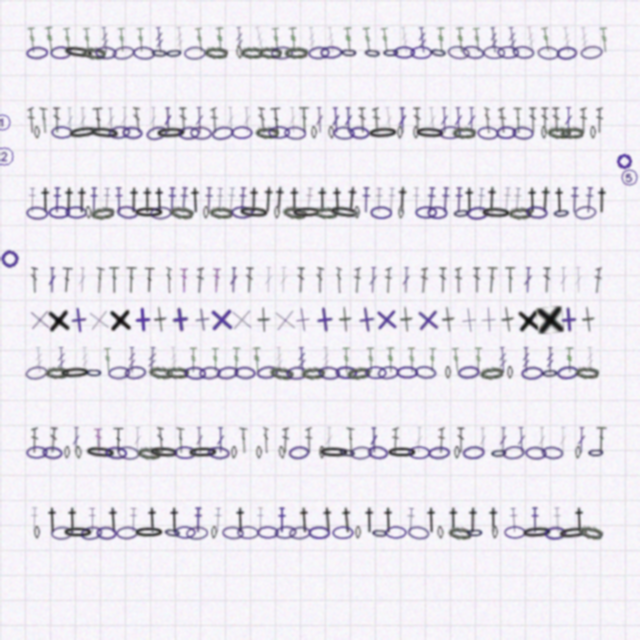chain: (62, 44, 95, 61), (67, 124, 100, 141), (328, 204, 361, 221), (88, 125, 121, 141), (557, 525, 590, 541), (84, 445, 117, 460), (238, 205, 270, 220), (148, 445, 180, 460), (521, 525, 553, 540), (155, 126, 187, 140), (367, 126, 399, 140), (414, 126, 446, 140), (480, 206, 512, 220), (59, 366, 91, 380), (578, 524, 604, 541), (145, 124, 169, 142), (133, 206, 165, 219), (291, 206, 323, 219), (187, 446, 219, 459), (318, 446, 350, 459), (386, 446, 418, 459), (62, 526, 94, 539), (133, 526, 165, 539), (461, 44, 485, 61), (90, 205, 115, 221), (269, 365, 294, 381), (346, 365, 371, 381), (479, 365, 504, 381), (169, 205, 194, 220), (282, 205, 307, 220), (148, 365, 173, 380), (112, 45, 135, 61), (211, 125, 234, 141), (25, 365, 48, 381), (216, 365, 239, 381), (117, 445, 140, 461), (80, 525, 103, 541), (407, 525, 430, 541), (447, 45, 470, 60), (512, 45, 535, 60), (580, 45, 603, 60), (108, 125, 131, 140), (116, 205, 139, 220), (525, 205, 548, 220), (574, 205, 597, 220), (124, 365, 147, 380), (256, 365, 279, 380), (377, 365, 400, 380), (414, 365, 437, 380), (457, 365, 480, 380), (556, 365, 579, 380), (462, 445, 485, 460), (502, 445, 525, 460), (274, 525, 297, 540), (82, 46, 106, 60), (508, 206, 532, 220), (301, 366, 325, 380), (137, 446, 161, 460), (448, 526, 472, 540), (288, 445, 310, 460), (367, 445, 389, 460), (537, 46, 560, 60), (466, 206, 489, 220), (207, 446, 230, 460), (541, 446, 564, 460), (204, 46, 228, 59), (240, 46, 264, 59), (258, 46, 282, 59), (284, 46, 308, 59), (255, 126, 279, 139), (452, 126, 476, 139), (547, 126, 571, 139), (560, 126, 584, 139), (209, 206, 233, 219), (314, 206, 338, 219), (45, 366, 69, 379), (165, 366, 189, 379), (575, 366, 599, 379), (26, 46, 48, 60), (95, 46, 117, 60), (133, 46, 155, 60), (184, 46, 206, 60), (271, 46, 293, 60), (308, 46, 330, 60), (556, 46, 578, 60), (178, 126, 200, 140), (190, 126, 212, 140), (284, 126, 306, 140), (333, 126, 355, 140), (477, 126, 499, 140), (512, 126, 534, 140), (26, 206, 48, 220), (150, 206, 172, 220), (108, 366, 130, 380), (184, 366, 206, 380), (199, 366, 221, 380), (234, 366, 256, 380), (286, 366, 308, 380), (318, 366, 340, 380), (521, 366, 543, 380), (105, 446, 127, 460), (350, 446, 372, 460), (428, 446, 450, 460), (525, 446, 547, 460), (51, 526, 73, 540), (116, 526, 138, 540), (186, 526, 208, 540), (222, 526, 244, 540), (289, 526, 311, 540), (544, 526, 566, 540), (122, 126, 143, 140), (349, 126, 370, 140), (42, 446, 63, 460), (96, 526, 117, 540), (50, 46, 72, 59), (320, 46, 342, 59), (393, 46, 415, 59), (410, 46, 432, 59), (483, 46, 505, 59), (497, 46, 519, 59), (51, 126, 73, 139), (231, 126, 253, 139), (268, 126, 290, 139), (439, 126, 461, 139), (48, 206, 70, 219), (65, 206, 87, 219), (231, 206, 253, 219), (370, 206, 392, 219), (415, 206, 437, 219), (335, 366, 357, 379), (365, 366, 387, 379), (396, 366, 418, 379), (26, 446, 48, 459), (174, 446, 196, 459), (408, 446, 430, 459), (174, 526, 196, 539), (237, 526, 259, 539), (257, 526, 279, 539), (308, 526, 330, 539), (332, 526, 354, 539), (385, 526, 407, 539), (504, 526, 526, 539), (429, 45, 448, 60), (338, 445, 357, 460), (163, 525, 182, 540), (496, 126, 517, 139), (427, 206, 448, 219), (150, 46, 169, 60), (363, 46, 382, 60), (452, 206, 471, 220), (552, 206, 571, 220), (165, 46, 183, 60), (541, 366, 559, 380), (490, 446, 508, 460), (371, 526, 389, 540), (340, 46, 358, 59), (382, 46, 400, 59), (85, 366, 103, 379), (587, 446, 605, 459), (466, 526, 484, 539), (278, 446, 286, 459), (236, 46, 243, 59), (328, 126, 335, 139), (85, 206, 92, 219), (75, 446, 82, 459), (437, 526, 444, 539), (34, 126, 40, 139), (311, 126, 317, 139), (397, 126, 403, 139), (413, 126, 419, 139), (541, 126, 547, 139), (590, 126, 596, 139), (203, 206, 209, 219), (274, 206, 280, 219), (354, 206, 360, 219), (398, 206, 404, 219), (445, 366, 451, 379), (507, 366, 513, 379), (64, 446, 70, 459), (231, 446, 237, 459), (256, 446, 262, 459), (319, 446, 325, 459), (454, 446, 460, 459), (575, 446, 581, 459), (34, 526, 40, 539), (211, 526, 217, 539), (355, 526, 361, 539), (492, 526, 498, 539)
double: (92, 107, 105, 133), (270, 107, 283, 133), (383, 107, 395, 133), (61, 267, 73, 293), (486, 267, 498, 293), (299, 107, 310, 133), (427, 107, 438, 133), (94, 267, 105, 293), (109, 267, 120, 293), (126, 267, 137, 293), (144, 267, 155, 293), (505, 267, 516, 293), (113, 427, 124, 453), (596, 427, 607, 453), (39, 107, 49, 133), (106, 107, 116, 133), (242, 107, 252, 133), (331, 107, 341, 133), (368, 267, 378, 293), (523, 267, 533, 293), (414, 427, 424, 453), (27, 107, 36, 133), (179, 107, 188, 133), (195, 107, 204, 133), (210, 107, 219, 133), (226, 107, 235, 133), (288, 107, 297, 133), (315, 107, 324, 133), (344, 107, 353, 133), (358, 107, 367, 133), (372, 107, 381, 133), (398, 107, 407, 133), (413, 107, 422, 133), (440, 107, 449, 133), (454, 107, 463, 133), (467, 107, 476, 133), (498, 107, 507, 133), (513, 107, 522, 133), (552, 107, 561, 133), (564, 107, 573, 133), (212, 267, 221, 293), (229, 267, 238, 293), (245, 267, 254, 293), (264, 267, 273, 293), (279, 267, 288, 293), (315, 267, 324, 293), (559, 267, 568, 293), (574, 267, 583, 293), (49, 427, 58, 453), (94, 427, 103, 453), (133, 427, 142, 453), (176, 427, 185, 453), (195, 427, 204, 453), (216, 427, 225, 453), (239, 427, 248, 453), (346, 427, 355, 453), (517, 427, 526, 453), (577, 427, 586, 453), (53, 107, 61, 133), (66, 107, 74, 133), (79, 107, 87, 133), (120, 107, 128, 133), (133, 107, 141, 133), (149, 107, 157, 133), (164, 107, 172, 133), (258, 107, 266, 133), (529, 107, 537, 133), (541, 107, 549, 133), (30, 267, 38, 293), (48, 267, 56, 293), (78, 267, 86, 293), (180, 267, 188, 293), (196, 267, 204, 293), (297, 267, 305, 293), (402, 267, 410, 293), (420, 267, 428, 293), (439, 267, 447, 293), (473, 267, 481, 293), (543, 267, 551, 293), (594, 267, 602, 293), (72, 427, 80, 453), (305, 427, 313, 453), (325, 427, 333, 453), (370, 427, 378, 453), (457, 427, 465, 453), (479, 427, 487, 453), (499, 427, 507, 453), (538, 427, 546, 453), (559, 427, 567, 453), (484, 107, 491, 133), (580, 107, 587, 133), (596, 107, 603, 133), (354, 267, 361, 293), (385, 267, 392, 293), (455, 267, 462, 293), (31, 427, 38, 453), (157, 427, 164, 453), (282, 427, 289, 453), (392, 427, 399, 453), (438, 427, 445, 453), (166, 267, 172, 293), (336, 267, 342, 293), (263, 427, 269, 453)
half_double: (343, 186, 361, 213), (260, 186, 277, 213), (271, 186, 288, 213), (394, 186, 411, 213), (537, 186, 554, 213), (484, 186, 500, 213), (61, 187, 77, 213), (74, 187, 90, 213), (126, 187, 142, 213), (246, 187, 262, 213), (594, 187, 610, 213), (320, 507, 336, 533), (339, 507, 355, 533), (465, 507, 481, 533), (38, 187, 53, 213), (140, 187, 155, 213), (152, 187, 167, 213), (188, 187, 203, 213), (287, 187, 302, 213), (315, 187, 330, 213), (330, 187, 345, 213), (462, 187, 477, 213), (525, 187, 540, 213), (552, 187, 567, 213), (45, 507, 60, 533), (65, 507, 80, 533), (106, 507, 121, 533), (145, 507, 160, 533), (167, 507, 182, 533), (233, 507, 248, 533), (297, 507, 312, 533), (362, 507, 377, 533), (381, 507, 396, 533), (424, 507, 439, 533), (446, 507, 461, 533), (486, 507, 501, 533), (572, 507, 587, 533), (178, 187, 190, 213), (225, 187, 237, 213), (303, 187, 315, 213), (425, 187, 437, 213), (501, 187, 513, 213), (583, 187, 595, 213), (101, 187, 112, 213), (214, 187, 225, 213), (237, 187, 248, 213), (386, 187, 397, 213), (440, 187, 451, 213), (512, 187, 523, 213), (569, 187, 580, 213), (212, 507, 223, 533), (405, 507, 416, 533), (508, 507, 519, 533), (552, 507, 563, 533), (27, 187, 37, 213), (52, 187, 62, 213), (89, 187, 99, 213), (114, 187, 124, 213), (167, 187, 177, 213), (204, 187, 214, 213), (361, 187, 371, 213), (374, 187, 384, 213), (411, 187, 421, 213), (454, 187, 464, 213), (476, 187, 486, 213), (29, 507, 39, 533), (87, 507, 97, 533), (128, 507, 138, 533), (193, 507, 203, 533), (255, 507, 265, 533), (277, 507, 287, 533), (530, 507, 540, 533)
noise: (0, 248, 21, 270), (619, 167, 639, 187), (0, 145, 15, 167), (615, 152, 633, 170), (0, 112, 13, 133)
single: (166, 305, 195, 334), (188, 305, 217, 334), (288, 305, 317, 334), (310, 305, 339, 334), (352, 305, 381, 334), (65, 306, 93, 334), (85, 306, 113, 334), (271, 306, 299, 334), (414, 306, 442, 334), (455, 306, 483, 334), (536, 306, 564, 334), (26, 306, 53, 333), (129, 306, 156, 333), (208, 306, 235, 333), (228, 306, 255, 333), (373, 306, 400, 333), (475, 306, 502, 333), (555, 306, 582, 333), (46, 306, 72, 334), (516, 306, 542, 334), (108, 306, 133, 333), (500, 306, 516, 333), (153, 306, 168, 333), (338, 306, 353, 333), (399, 306, 414, 333), (441, 306, 456, 333), (581, 306, 596, 333), (257, 307, 271, 333)
treble: (253, 26, 267, 53), (540, 26, 553, 53), (44, 26, 56, 53), (525, 26, 537, 53), (62, 27, 74, 53), (194, 27, 206, 53), (362, 27, 374, 53), (561, 27, 573, 53), (27, 27, 38, 53), (82, 27, 93, 53), (154, 27, 165, 53), (271, 27, 282, 53), (288, 27, 299, 53), (343, 27, 354, 53), (380, 27, 391, 53), (399, 27, 410, 53), (417, 27, 428, 53), (455, 27, 466, 53), (472, 27, 483, 53), (507, 27, 518, 53), (579, 27, 590, 53), (599, 27, 610, 53), (451, 347, 462, 373), (100, 27, 110, 53), (117, 27, 127, 53), (136, 27, 146, 53), (215, 27, 225, 53), (307, 27, 317, 53), (326, 27, 336, 53), (436, 27, 446, 53), (489, 27, 499, 53), (34, 347, 44, 373), (103, 347, 113, 373), (147, 347, 157, 373), (252, 347, 262, 373), (297, 347, 307, 373), (366, 347, 376, 373), (407, 347, 417, 373), (498, 347, 508, 373), (175, 27, 184, 53), (235, 27, 244, 53), (57, 347, 66, 373), (169, 347, 178, 373), (189, 347, 198, 373), (211, 347, 220, 373), (232, 347, 241, 373), (275, 347, 284, 373), (342, 347, 351, 373), (386, 347, 395, 373), (428, 347, 437, 373), (474, 347, 483, 373), (565, 347, 574, 373), (81, 347, 89, 373), (128, 347, 136, 373), (322, 347, 330, 373), (522, 347, 530, 373), (546, 347, 554, 373), (586, 347, 594, 373)
